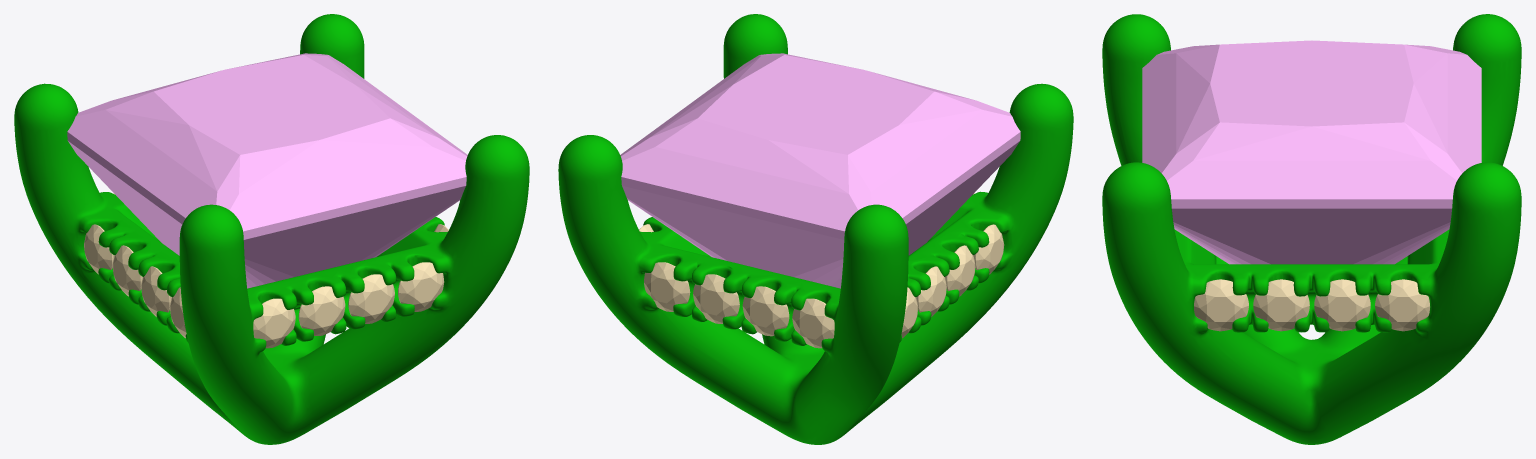
3 views of the same model, side by side, from view 1: azimuth 30°, elevation 25°; view 2: azimuth 150°, elevation 25°; view 3: azimuth 270°, elevation 25° (orthographic). The views are drawn at different scales.
Visible parts, largest first — view 1: Metal01, Diamond_Princess, Diamond_Round.002, Diamond_Round.001, Diamond_Round, Diamond_Round.003, Diamond_Round.013, Diamond_Round.015, Diamond_Round.014; view 2: Metal01, Diamond_Princess, Diamond_Round.006, Diamond_Round.004, Diamond_Round.005, Diamond_Round.007, Diamond_Round.015, Diamond_Round.012, Diamond_Round.013; view 3: Metal01, Diamond_Princess, Diamond_Round.008, Diamond_Round.010, Diamond_Round.009, Diamond_Round.011.
Part boxes in pixels (left/top/right/bottom): Metal01: left=14, top=14, right=529, bottom=444; Diamond_Princess: left=67, top=53, right=467, bottom=288; Diamond_Round.002: left=298, top=286, right=345, bottom=335; Diamond_Round.001: left=348, top=274, right=394, bottom=323; Diamond_Round: left=398, top=262, right=444, bottom=311; Diamond_Round.003: left=253, top=298, right=295, bottom=348; Diamond_Round.013: left=141, top=266, right=171, bottom=316; Diamond_Round.015: left=112, top=245, right=142, bottom=296; Diamond_Round.014: left=84, top=224, right=114, bottom=274; Metal01: left=558, top=14, right=1073, bottom=444; Diamond_Princess: left=620, top=53, right=1020, bottom=288; Diamond_Round.006: left=742, top=286, right=789, bottom=336; Diamond_Round.004: left=693, top=274, right=739, bottom=323; Diamond_Round.005: left=644, top=262, right=690, bottom=311; Diamond_Round.007: left=792, top=298, right=834, bottom=348; Diamond_Round.015: left=916, top=266, right=946, bottom=316; Diamond_Round.012: left=973, top=224, right=1004, bottom=274; Diamond_Round.013: left=945, top=245, right=975, bottom=296; Metal01: left=1102, top=14, right=1521, bottom=444; Diamond_Princess: left=1142, top=40, right=1481, bottom=264; Diamond_Round.008: left=1314, top=279, right=1370, bottom=331; Diamond_Round.010: left=1253, top=279, right=1309, bottom=331; Diamond_Round.009: left=1375, top=279, right=1429, bottom=331; Diamond_Round.011: left=1194, top=279, right=1248, bottom=331.
Size of the model in its own units: 7.78 by 7.28 by 7.79.
